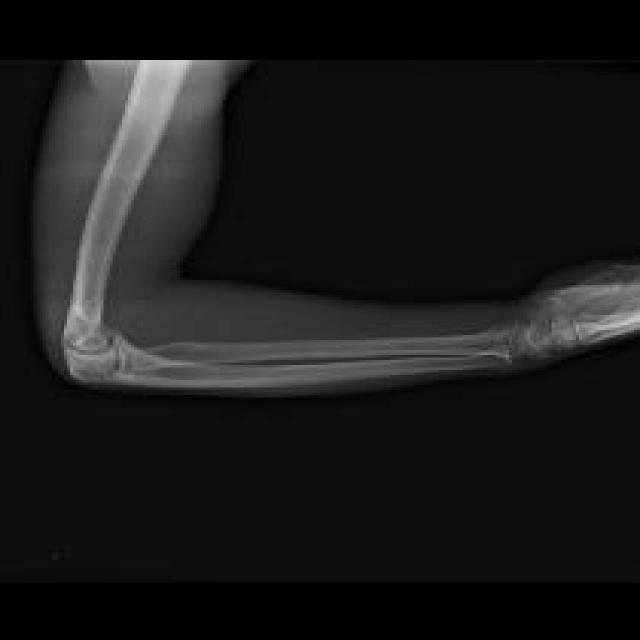normal: (62, 60, 640, 388)
